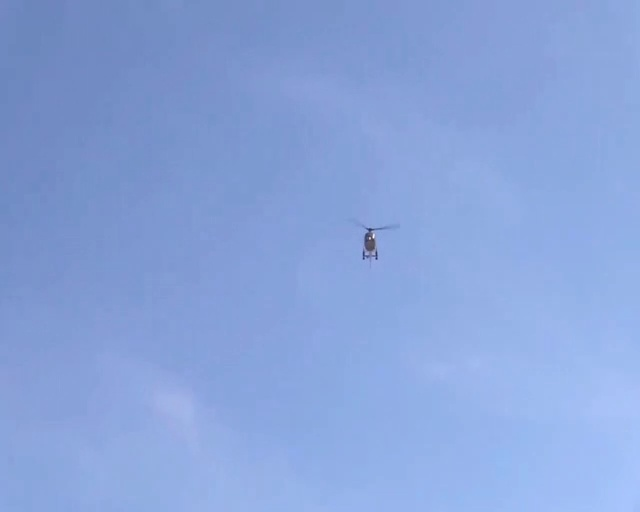HELICOPTER: (346, 218, 401, 261)
